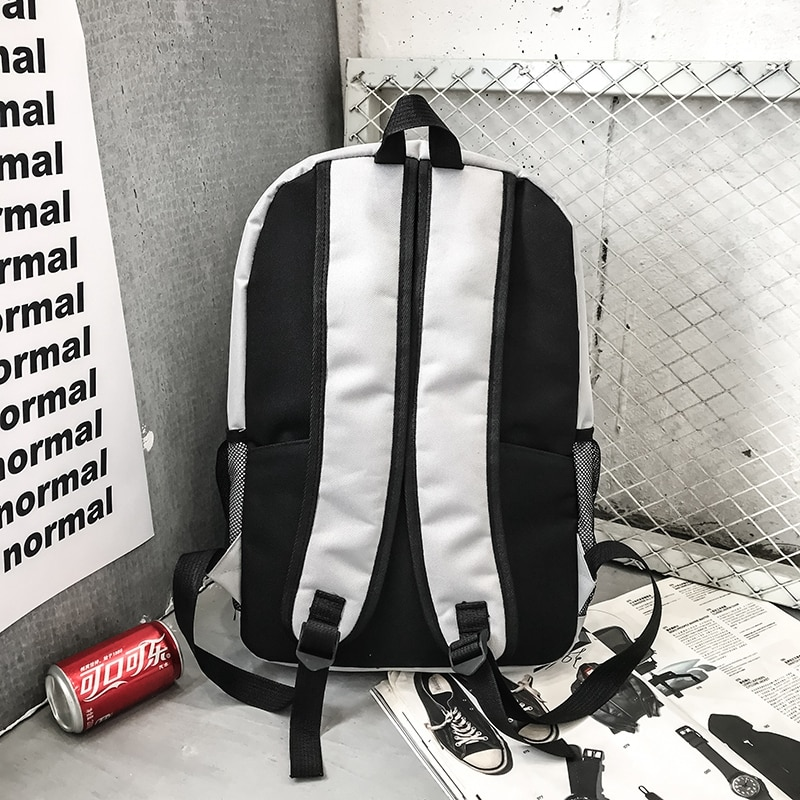Men's Backpacks: (164, 91, 670, 778)
